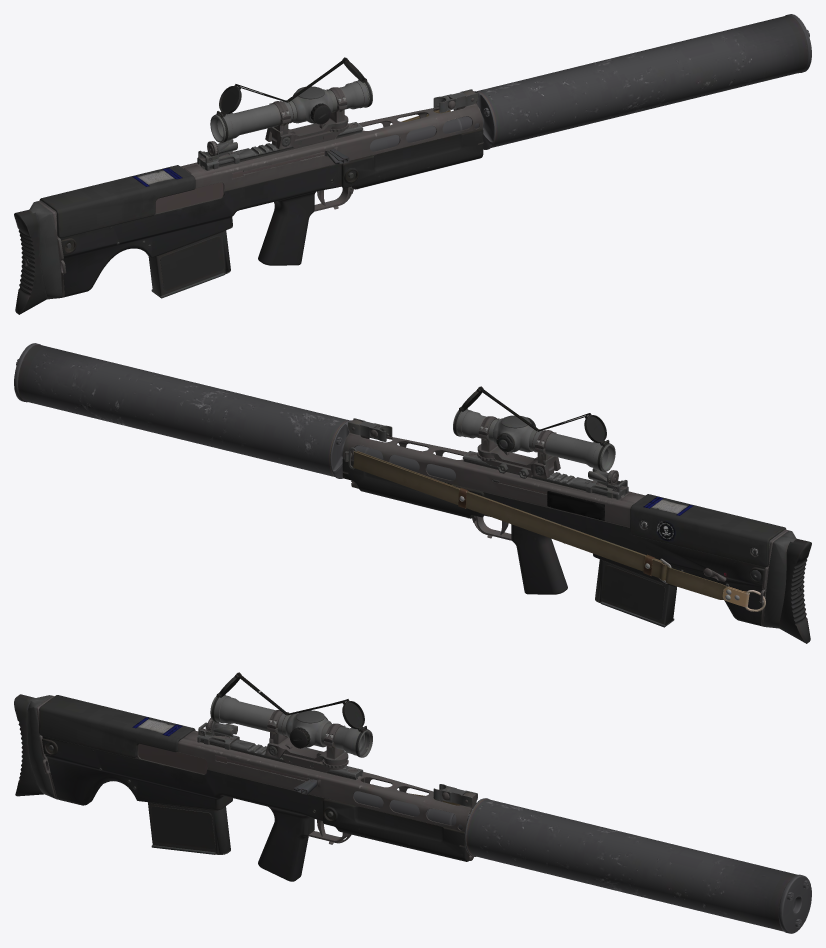
File: weapon-phantom.glb
3 renders of one model, top to bottom at view 1: azimuth 30°, elevation 25°; view 2: azimuth 150°, elevation 25°; view 3: azimuth 330°, elevation 25°, orthographic.
Visible parts, largest first — view 1: part3, part2, part11, part13, part7, mag_5, part10, part12; view 2: part3, part2, part11, part4, part13, part7, mag_5, part9, part12; view 3: part3, part2, part11, part13, part7, mag_5, part10, part12.
Boxes of the visible parts, <box> form: part3: <box>326,14,811,166</box>; part2: <box>60,128,483,297</box>; part11: <box>14,165,352,314</box>; part13: <box>39,90,483,220</box>; part7: <box>210,57,372,149</box>; mag_5: <box>148,230,230,298</box>; part10: <box>155,149,357,213</box>; part12: <box>201,89,477,159</box>; part3: <box>14,343,500,495</box>; part2: <box>342,457,765,626</box>; part11: <box>473,494,811,643</box>; part4: <box>353,451,765,611</box>; part13: <box>342,419,786,549</box>; part7: <box>453,386,615,478</box>; mag_5: <box>595,559,676,627</box>; part9: <box>356,456,732,588</box>; part12: <box>348,418,624,488</box>; part3: <box>313,791,811,933</box>; part2: <box>42,736,469,881</box>; part11: <box>14,694,346,842</box>; part13: <box>39,707,476,847</box>; part7: <box>210,672,372,772</box>; mag_5: <box>148,802,230,854</box>; part10: <box>138,744,473,860</box>; part12: <box>202,718,477,806</box>.
Size of the model in its own units: 1.12 by 0.2619 by 0.0902.
Materials: 10 (9 with a texture image).
